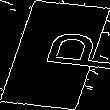P_W: (6, 32, 104, 78)
